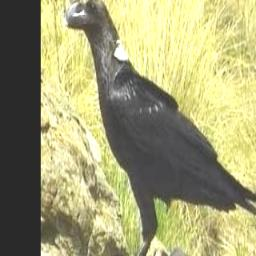Crow: (62, 0, 256, 256)
